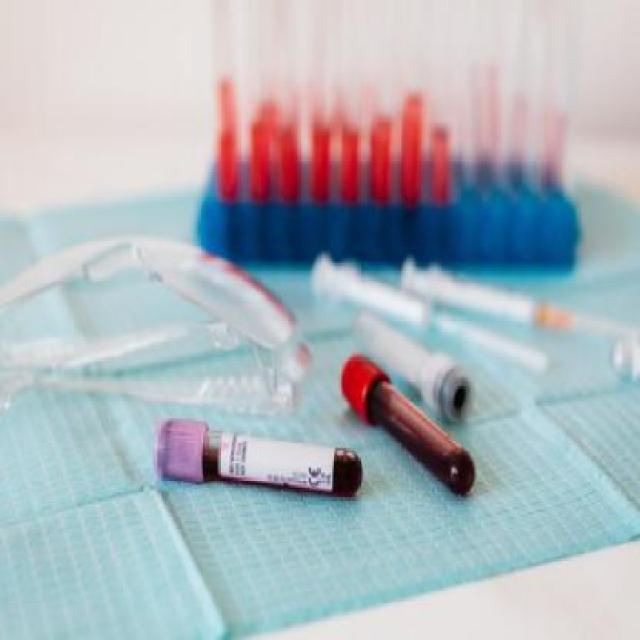Experimental-tube: (342, 353, 476, 495), (155, 412, 362, 497)
